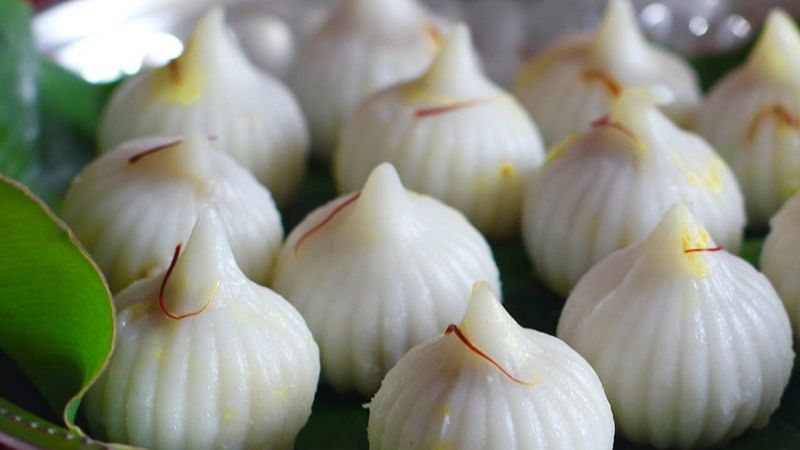modak: (80, 217, 345, 450), (570, 221, 795, 426), (536, 69, 754, 262), (372, 282, 606, 450), (338, 39, 560, 216), (96, 12, 314, 190), (66, 126, 309, 283), (285, 171, 497, 345)
